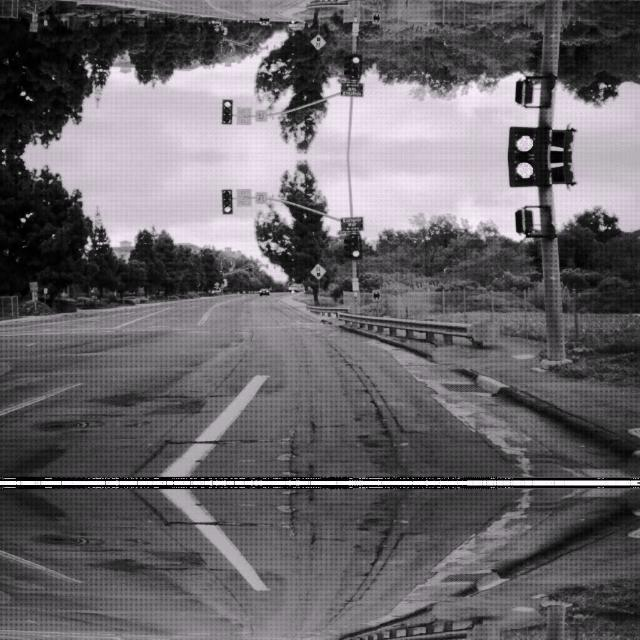signalAhead: (310, 262, 326, 278), (310, 34, 326, 50)
